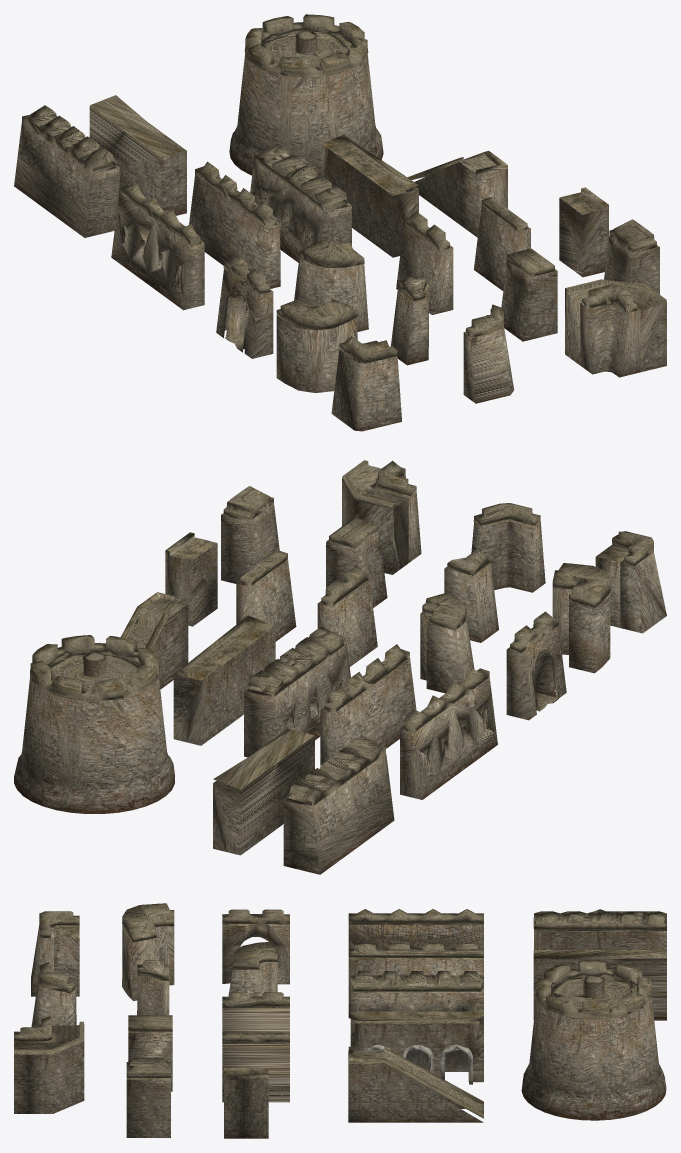
Rendered from modular_fort_01_lod1.glb.
3 renders of one model, top to bottom at view 1: azimuth 30°, elevation 25°; view 2: azimuth 150°, elevation 25°; view 3: azimuth 270°, elevation 25°, orthographic. The views are drawn at different scales.
Parts seen in each view (by area): view 1: modular_fort_01_tower_round, modular_fort_01_wall_thick_straight_01, modular_fort_01_wall_thin_straight_02, modular_fort_01_wall_thick_straight_02, modular_fort_01_wall_thin_straight_01, modular_fort_01_wall_walkway_straight_02, modular_fort_01_wall_walkway_straight_01, modular_fort_01_wall_thick_corner_02, modular_fort_01_wall_thin_corner_02, modular_fort_01_wall_thin_corner_01, modular_fort_01_wall_stairs_straight_01, modular_fort_01_wall_thin_gate_01 (+9 smaller); view 2: modular_fort_01_tower_round, modular_fort_01_wall_thick_straight_01, modular_fort_01_wall_thin_straight_02, modular_fort_01_wall_thick_straight_02, modular_fort_01_wall_walkway_straight_01, modular_fort_01_wall_walkway_straight_02, modular_fort_01_wall_thin_straight_01, modular_fort_01_wall_thick_corner_02, modular_fort_01_wall_thin_corner_03, modular_fort_01_wall_thin_gate_01, modular_fort_01_wall_thick_corner_01, modular_fort_01_wall_thick_end_02 (+10 smaller); view 3: modular_fort_01_tower_round, modular_fort_01_wall_stairs_straight_01, modular_fort_01_wall_walkway_straight_01, modular_fort_01_wall_walkway_corner_01, modular_fort_01_wall_thick_straight_02, modular_fort_01_wall_thick_straight_01, modular_fort_01_wall_thin_straight_02, modular_fort_01_wall_thin_straight_01, modular_fort_01_wall_thick_corner_02, modular_fort_01_wall_thick_end_02, modular_fort_01_wall_walkway_straight_02, modular_fort_01_wall_thin_straight_03 (+10 smaller).
Part boxes in pixels (x1=…): modular_fort_01_tower_round: x1=229, y1=14, x2=383, y2=175; modular_fort_01_wall_thick_straight_01: x1=14, y1=105, x2=119, y2=237; modular_fort_01_wall_thin_straight_02: x1=111, y1=184, x2=204, y2=310; modular_fort_01_wall_thick_straight_02: x1=250, y1=143, x2=351, y2=262; modular_fort_01_wall_thin_straight_01: x1=189, y1=161, x2=280, y2=288; modular_fort_01_wall_walkway_straight_02: x1=89, y1=95, x2=186, y2=215; modular_fort_01_wall_walkway_straight_01: x1=322, y1=134, x2=418, y2=257; modular_fort_01_wall_thick_corner_02: x1=276, y1=298, x2=357, y2=392; modular_fort_01_wall_thin_corner_02: x1=331, y1=336, x2=401, y2=431; modular_fort_01_wall_thin_corner_01: x1=580, y1=284, x2=640, y2=377; modular_fort_01_wall_stairs_straight_01: x1=407, y1=151, x2=507, y2=237; modular_fort_01_wall_thin_gate_01: x1=216, y1=255, x2=273, y2=358; modular_fort_01_tower_round: x1=14, y1=635, x2=174, y2=813; modular_fort_01_wall_thick_straight_01: x1=283, y1=735, x2=394, y2=874; modular_fort_01_wall_thin_straight_02: x1=400, y1=668, x2=497, y2=799; modular_fort_01_wall_thick_straight_02: x1=244, y1=626, x2=350, y2=757; modular_fort_01_wall_walkway_straight_01: x1=173, y1=615, x2=275, y2=745; modular_fort_01_wall_walkway_straight_02: x1=213, y1=728, x2=314, y2=855; modular_fort_01_wall_thin_straight_01: x1=320, y1=644, x2=416, y2=765; modular_fort_01_wall_thick_corner_02: x1=552, y1=563, x2=610, y2=673; modular_fort_01_wall_thin_corner_03: x1=471, y1=503, x2=545, y2=592; modular_fort_01_wall_thin_gate_01: x1=506, y1=611, x2=566, y2=720; modular_fort_01_wall_thick_corner_01: x1=420, y1=593, x2=474, y2=693; modular_fort_01_wall_thick_end_02: x1=221, y1=486, x2=279, y2=583; modular_fort_01_tower_round: x1=521, y1=960, x2=666, y2=1120; modular_fort_01_wall_stairs_straight_01: x1=348, y1=1046, x2=483, y2=1122; modular_fort_01_wall_walkway_straight_01: x1=350, y1=1011, x2=483, y2=1084; modular_fort_01_wall_walkway_corner_01: x1=14, y1=1021, x2=84, y2=1113; modular_fort_01_wall_thick_straight_02: x1=350, y1=971, x2=483, y2=1011; modular_fort_01_wall_thick_straight_01: x1=533, y1=909, x2=666, y2=949; modular_fort_01_wall_thin_straight_02: x1=348, y1=909, x2=483, y2=948; modular_fort_01_wall_thin_straight_01: x1=348, y1=943, x2=483, y2=1018; modular_fort_01_wall_thick_corner_02: x1=122, y1=903, x2=174, y2=1000; modular_fort_01_wall_thick_end_02: x1=126, y1=1057, x2=170, y2=1137; modular_fort_01_wall_walkway_straight_02: x1=533, y1=950, x2=666, y2=1020; modular_fort_01_wall_thin_straight_03: x1=222, y1=1032, x2=289, y2=1102.
Size of the model in its own units: 42.66 by 13.57 by 71.37.
3 materials, 3 textured.
